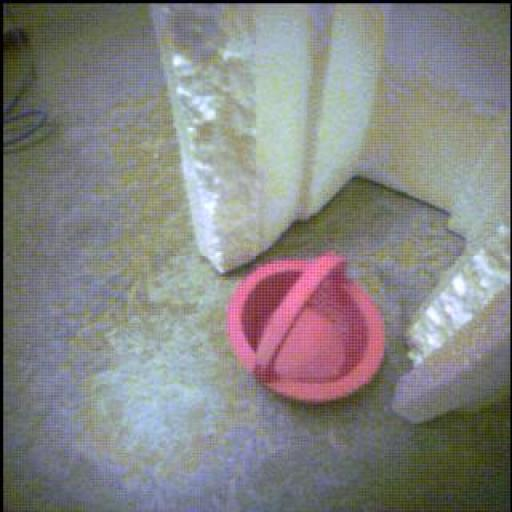Bucket: (228, 254, 385, 404)
